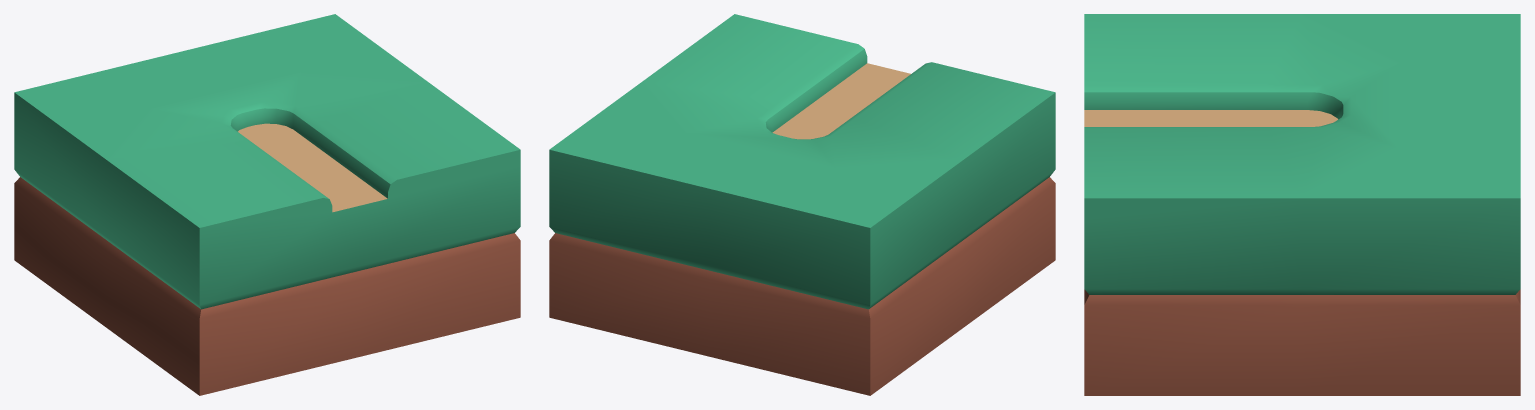
File: kaykit-square-forest-roada-detail.glb
3 views of the same model, side by side, from view 1: azimuth 30°, elevation 25°; view 2: azimuth 150°, elevation 25°; view 3: azimuth 270°, elevation 25° (orthographic). The views are drawn at different scales.
Parts seen in each view (by area): view 1: square_forest_roadA_detail; view 2: square_forest_roadA_detail; view 3: square_forest_roadA_detail.
Part boxes in pixels (x1=…): square_forest_roadA_detail: x1=14, y1=14, x2=520, y2=395; square_forest_roadA_detail: x1=549, y1=14, x2=1055, y2=395; square_forest_roadA_detail: x1=1084, y1=14, x2=1520, y2=395.
Size of the model in its own units: 2 by 0.9998 by 2.
